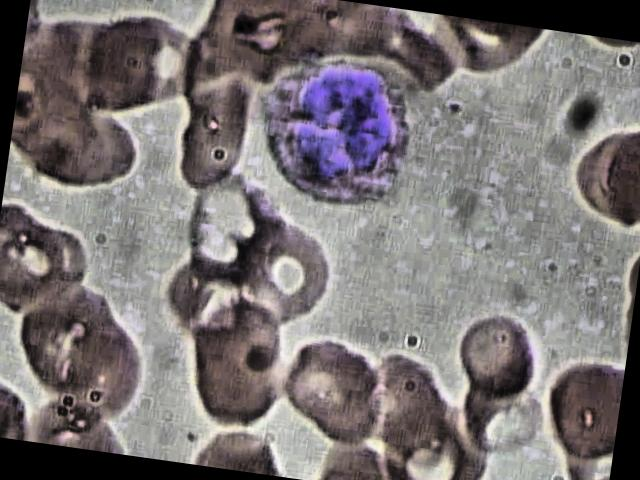RBC: (176, 293, 302, 437), (273, 326, 399, 453), (7, 272, 126, 398), (161, 72, 257, 197), (452, 364, 550, 462), (538, 356, 625, 466), (243, 222, 336, 324), (450, 302, 542, 400)
WBC: (243, 44, 439, 224)
